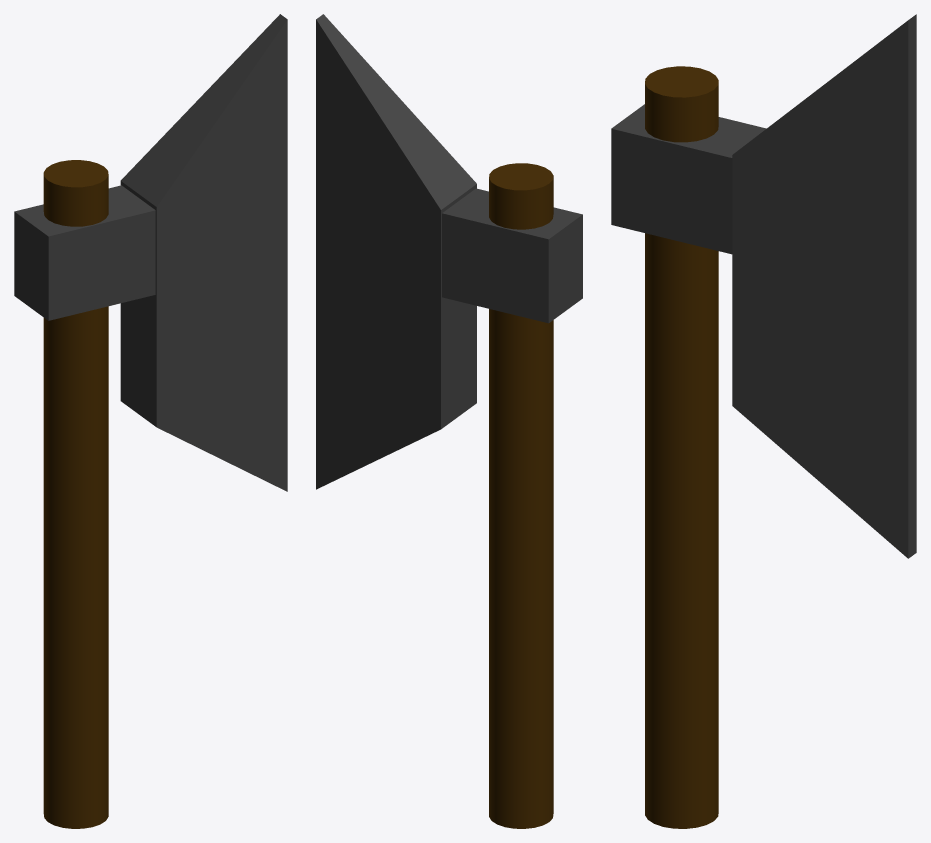
The model's file is Axe.fbx.
3 views of the same model, side by side, from view 1: azimuth 30°, elevation 25°; view 2: azimuth 150°, elevation 25°; view 3: azimuth 330°, elevation 25° (orthographic). The views are drawn at different scales.
Parts seen in each view (by area): view 1: pCube3; view 2: pCube3; view 3: pCube3.
Boxes of the visible parts, x1,y1,x2,y2 form: pCube3: (14, 14, 287, 828); pCube3: (316, 14, 582, 828); pCube3: (611, 14, 916, 828).
Size of the model in its own units: 6.3 by 18.08 by 1.58.
